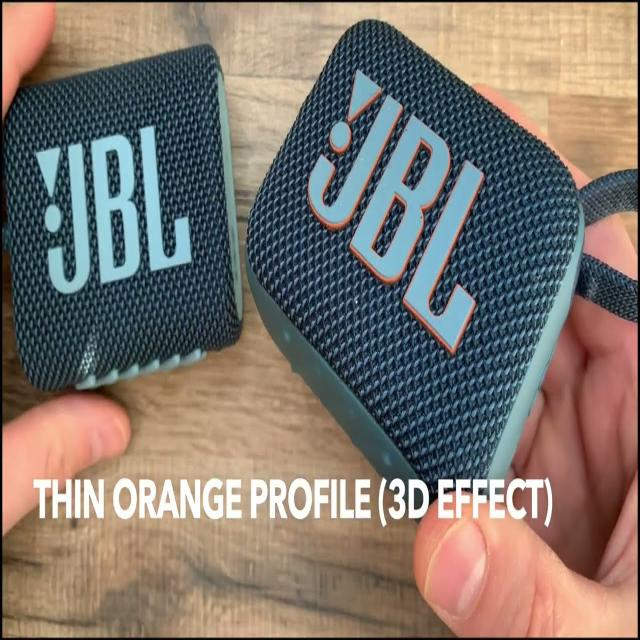column JBL: (246, 20, 636, 508)
